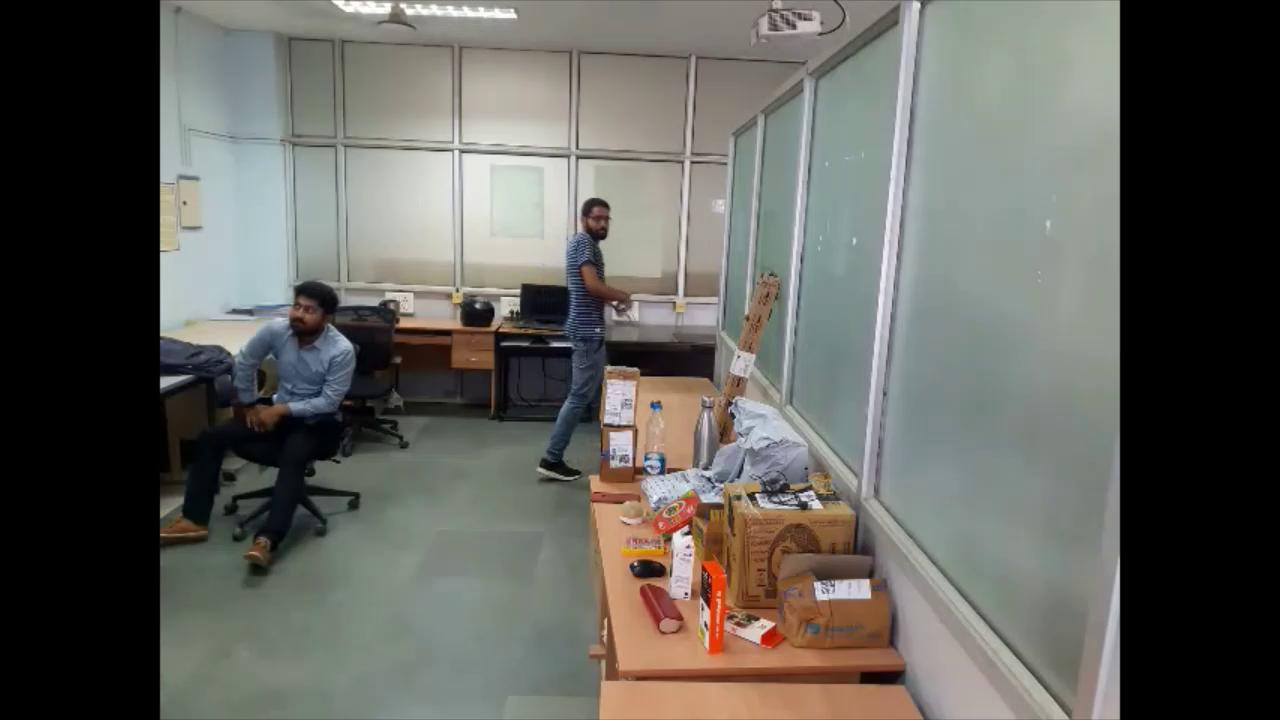Normal: (162, 267, 362, 591), (527, 189, 633, 494)
